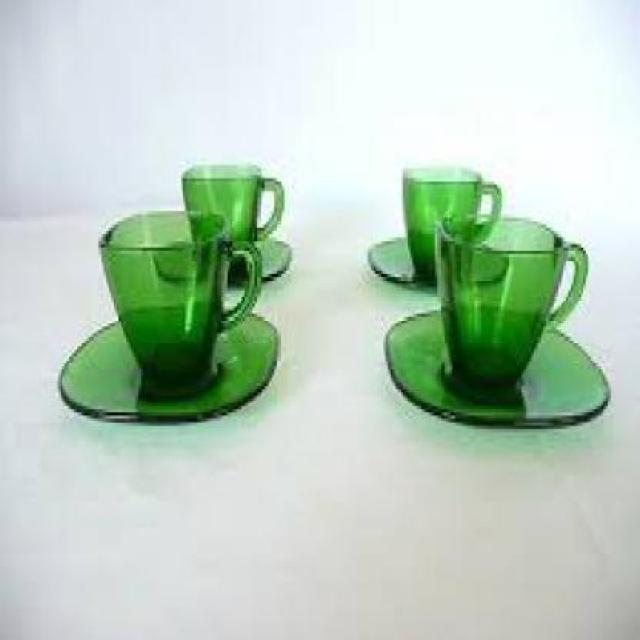kaca: (98, 208, 260, 383), (383, 303, 611, 426), (432, 212, 583, 397), (57, 300, 277, 415), (180, 158, 282, 260), (398, 162, 500, 264), (366, 230, 506, 284), (151, 230, 289, 284)
